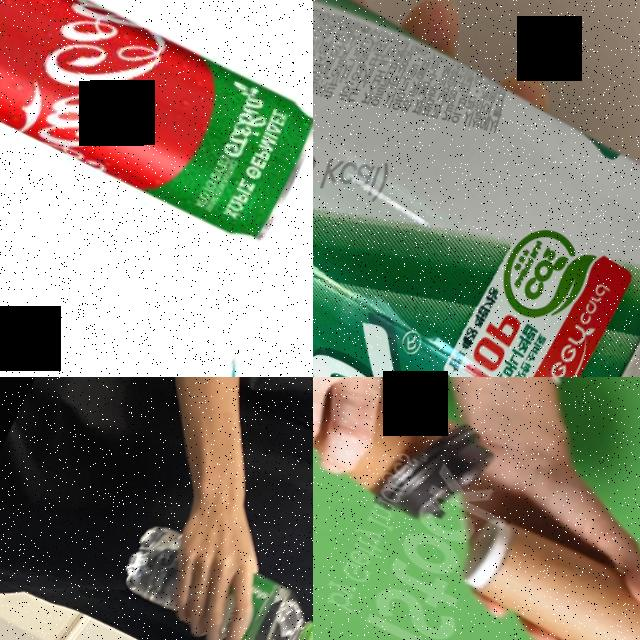bottle: (103, 511, 313, 640)
can: (313, 0, 640, 377), (0, 0, 313, 251)
cup: (313, 377, 502, 541), (441, 497, 640, 640)
